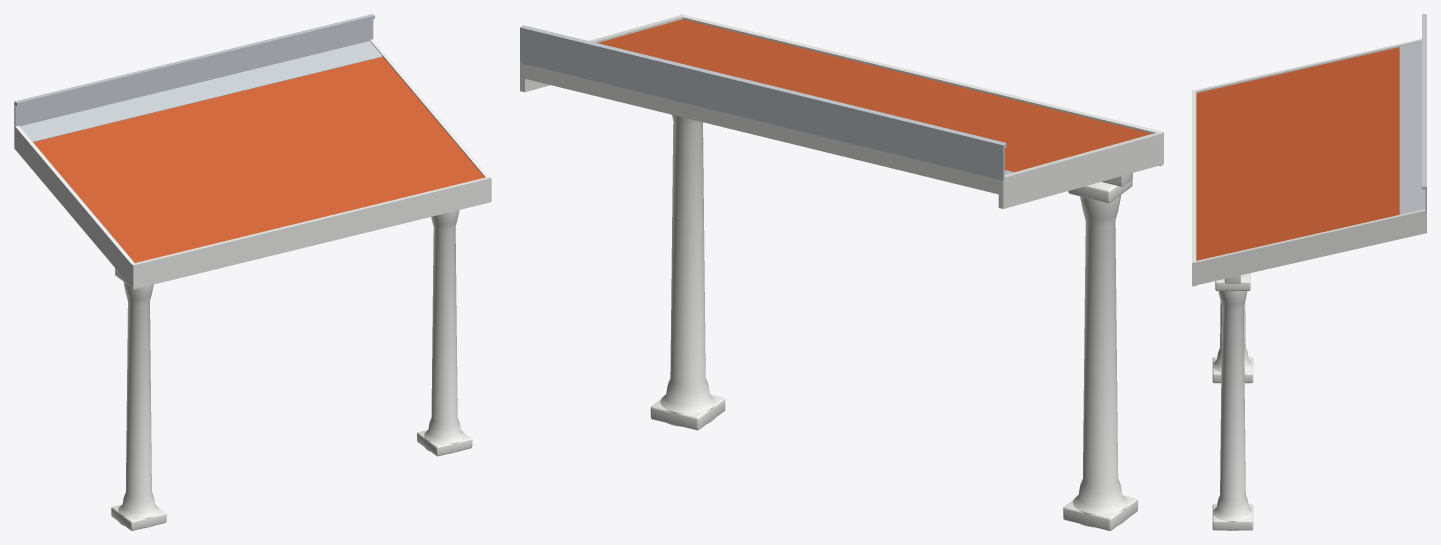
The model's file is alpendre_3m.glb.
3 renders of one model, left to right at view 1: azimuth 30°, elevation 25°; view 2: azimuth 150°, elevation 25°; view 3: azimuth 270°, elevation 25°, orthographic. The views are drawn at different scales.
Visible parts, largest first — view 1: alpendre_3m; view 2: alpendre_3m; view 3: alpendre_3m.
Part boxes in pixels (x1,y1,x2,y2): alpendre_3m: [14, 14, 491, 530]; alpendre_3m: [520, 14, 1163, 530]; alpendre_3m: [1192, 14, 1426, 530].
Bounding box in the file's own units: 3 × 2.82 × 1.72.
Materials: 3 (1 with a texture image).
